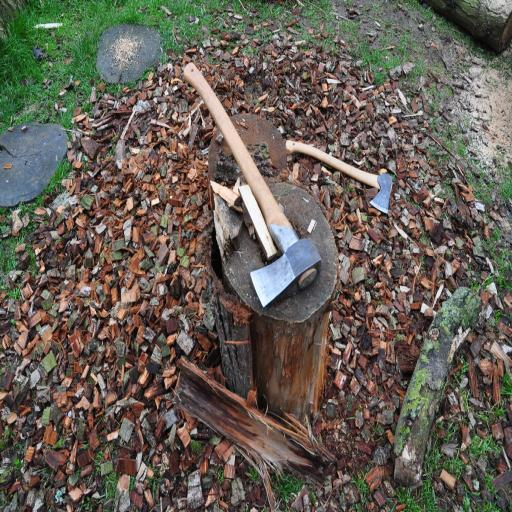Axe: (179, 59, 326, 311), (286, 139, 394, 212)
